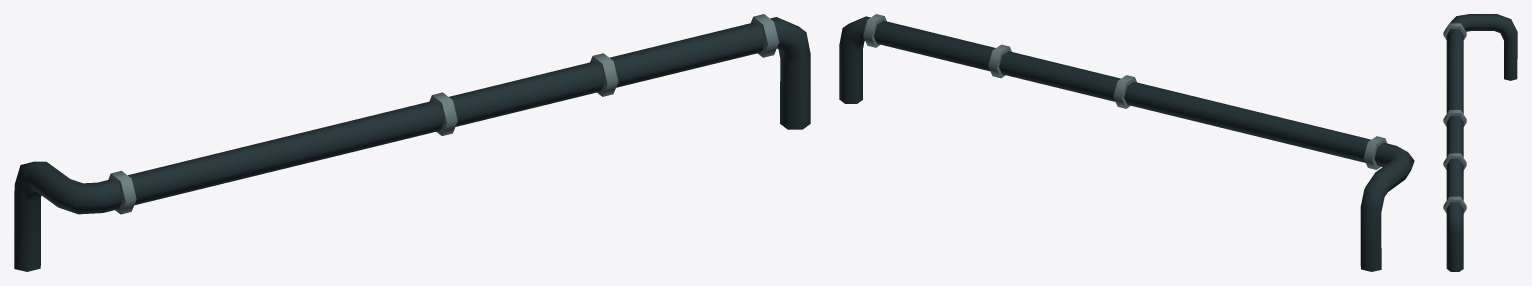
File: SM_Pipe_04.fbx
3 views of the same model, side by side, from view 1: azimuth 30°, elevation 25°; view 2: azimuth 150°, elevation 25°; view 3: azimuth 270°, elevation 25° (orthographic). The views are drawn at different scales.
Parts seen in each view (by area): view 1: SM_Pipe_04; view 2: SM_Pipe_04; view 3: SM_Pipe_04.
Boxes of the visible parts, left/top/right/bottom form: SM_Pipe_04: left=14, top=14, right=810, bottom=271; SM_Pipe_04: left=839, top=14, right=1414, bottom=271; SM_Pipe_04: left=1443, top=14, right=1517, bottom=271.
Size of the model in its own units: 726 by 108 by 114.
1 material, 1 textured.
